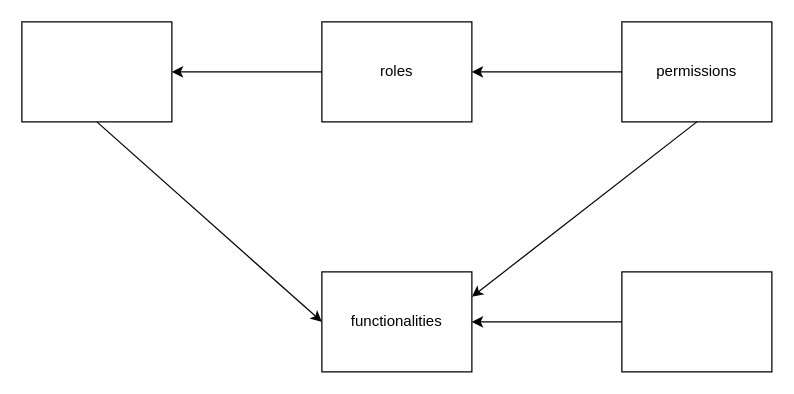
Some shapes in this 794 by 394 pixel diagram are drawn without their labels. Each missing label, with the centre of its shape:
"parameters" belongs at point 696,321.
"users" belongs at point 96,71.
